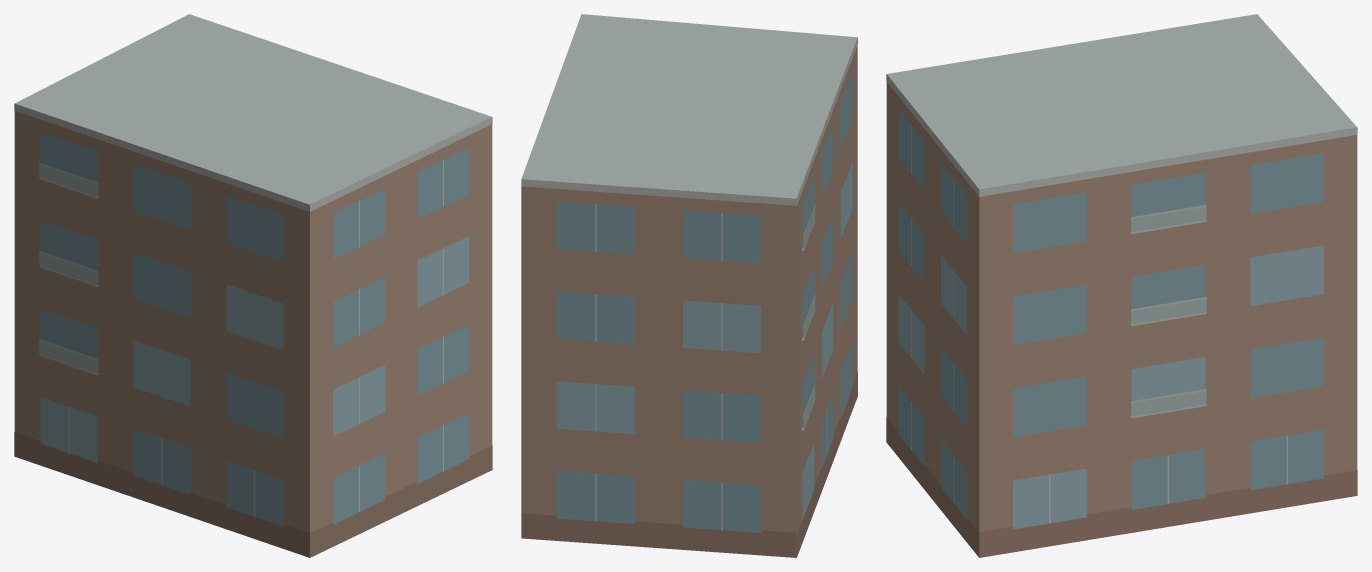
File: survey-upis-32857781.glb
3 views of the same model, side by side, from view 1: azimuth 30°, elevation 25°; view 2: azimuth 150°, elevation 25°; view 3: azimuth 270°, elevation 25° (orthographic). The views are drawn at different scales.
Parts seen in each view (by area): view 1: survey-upis-32857781.tmp; view 2: survey-upis-32857781.tmp; view 3: survey-upis-32857781.tmp.
Boxes of the visible parts, bbox=[...] form: survey-upis-32857781.tmp: bbox=[14, 14, 492, 557]; survey-upis-32857781.tmp: bbox=[521, 14, 857, 557]; survey-upis-32857781.tmp: bbox=[886, 14, 1357, 557].
Size of the model in its own units: 12.48 by 12.2 by 14.15.
